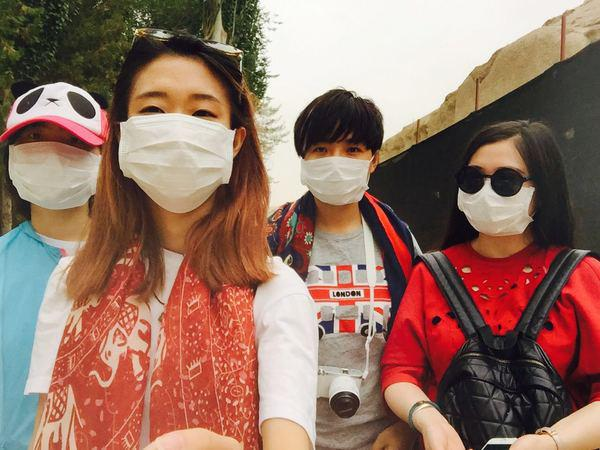OK: (120, 89, 242, 211), (17, 128, 98, 210), (460, 164, 532, 235), (304, 140, 377, 203)
